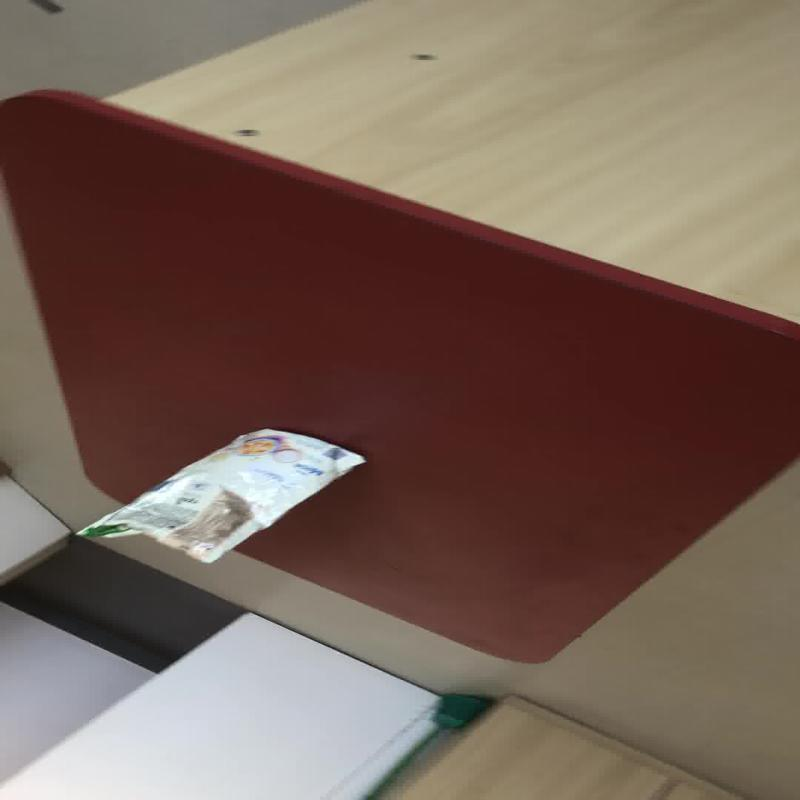corn flakes: (73, 426, 366, 564)
